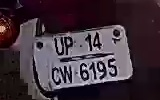1: (83, 34, 93, 51), (89, 62, 97, 80)
4: (92, 30, 103, 51)
5: (107, 57, 119, 78)
6: (78, 62, 90, 82)
9: (96, 60, 108, 80)
C: (50, 66, 63, 87)
P: (64, 35, 73, 56)
U: (53, 36, 64, 57)
W: (60, 66, 73, 83)
